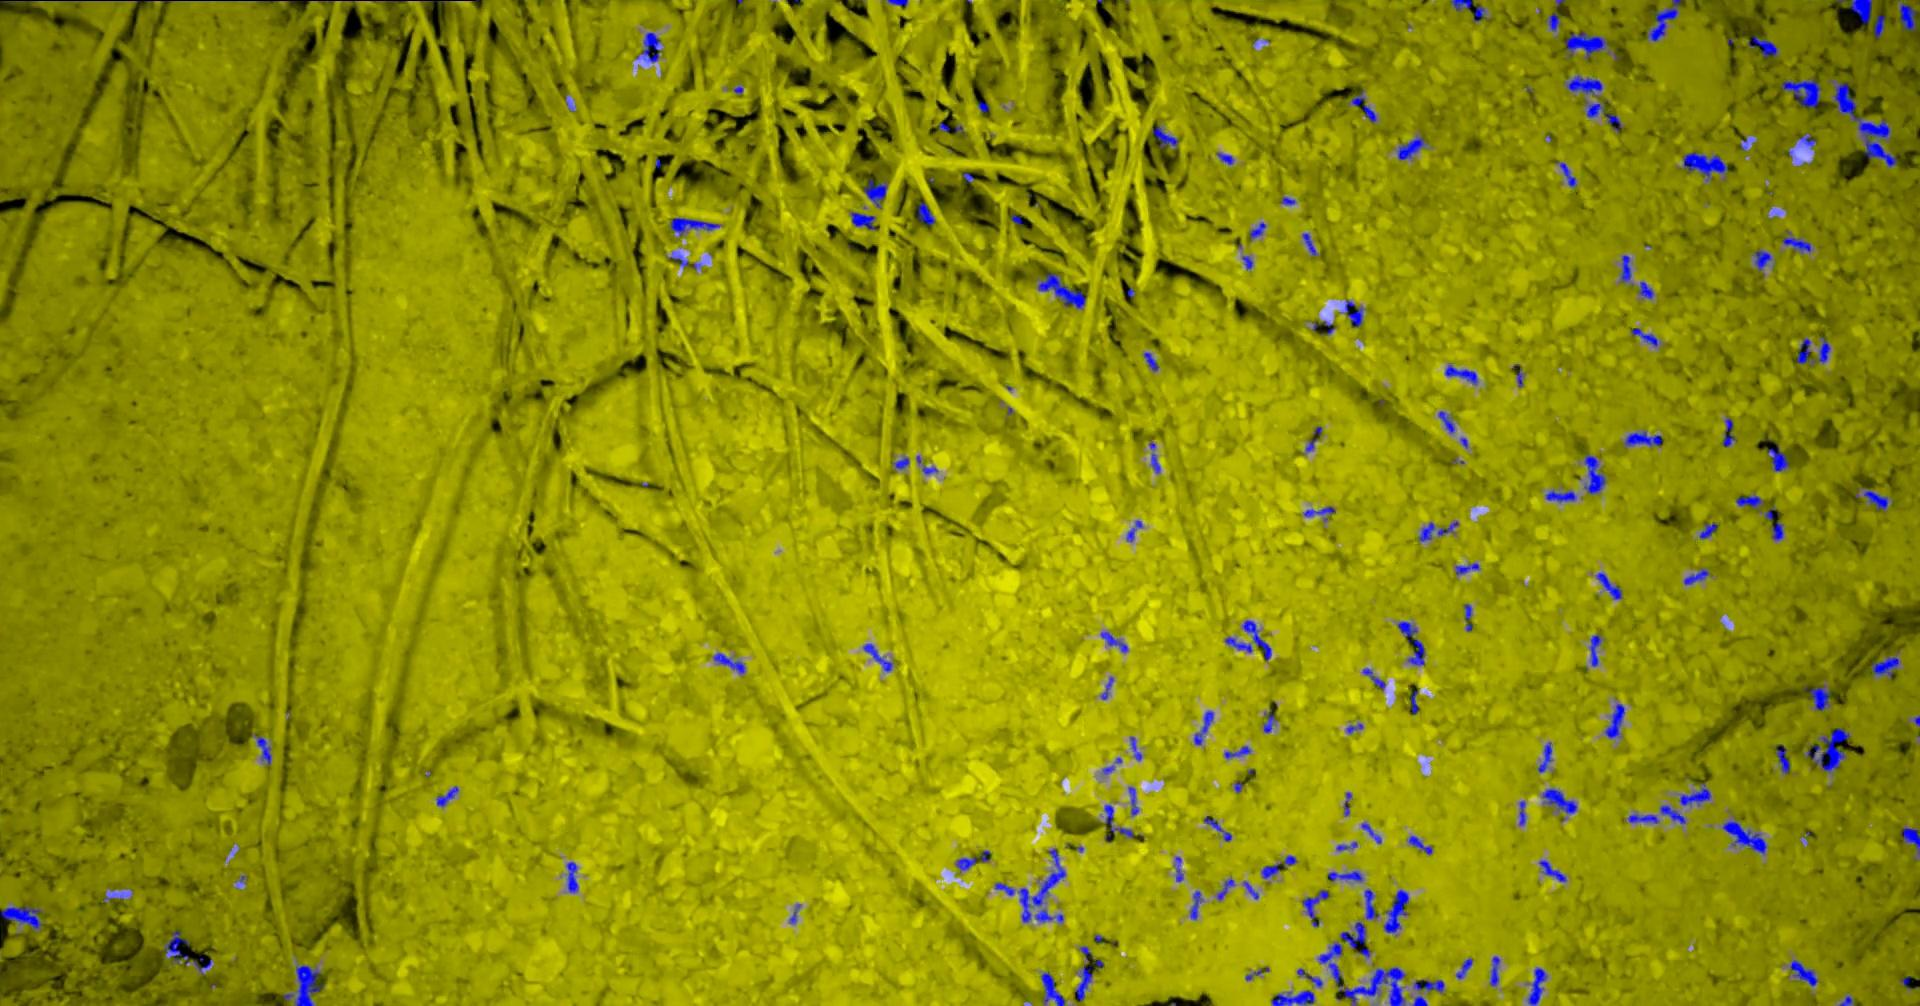ant: (994, 848, 1065, 922), (163, 930, 211, 974), (1806, 727, 1850, 772), (1224, 619, 1271, 661), (1037, 272, 1084, 307), (283, 964, 324, 1005), (1646, 0, 1683, 41), (1722, 821, 1766, 854), (1683, 151, 1727, 180), (1564, 30, 1608, 58), (1397, 621, 1423, 666), (1383, 889, 1408, 934), (1782, 77, 1820, 107), (1340, 921, 1370, 956), (1302, 889, 1330, 926), (1103, 804, 1133, 837), (1796, 337, 1830, 365), (0, 906, 41, 929), (669, 217, 719, 235), (1449, 0, 1490, 22), (1583, 453, 1605, 494), (1542, 788, 1576, 813), (1418, 520, 1458, 541), (1350, 89, 1377, 121), (1040, 972, 1065, 1005), (862, 643, 891, 671), (955, 850, 990, 873), (1261, 855, 1297, 878), (1566, 75, 1603, 97), (1677, 782, 1710, 805), (1604, 702, 1624, 738), (1790, 959, 1817, 986), (1596, 572, 1622, 600), (1203, 815, 1230, 841), (1192, 710, 1213, 744), (712, 652, 744, 673), (1528, 967, 1545, 1005), (1397, 136, 1426, 159), (863, 178, 886, 207), (1271, 989, 1314, 1005), (1803, 685, 1829, 710), (1152, 124, 1178, 149), (1538, 859, 1566, 882), (1747, 36, 1777, 57), (1444, 365, 1477, 384), (1768, 441, 1788, 471), (251, 733, 270, 765), (1870, 655, 1898, 677), (1076, 965, 1092, 1001), (640, 32, 659, 62), (1624, 431, 1662, 446), (1100, 631, 1128, 652), (669, 251, 701, 269), (1848, 0, 1872, 23), (1863, 488, 1887, 511), (1782, 232, 1810, 251), (1343, 300, 1363, 326), (1630, 326, 1657, 345), (1658, 804, 1685, 823), (1898, 0, 1915, 30), (1901, 826, 1919, 854), (1363, 667, 1385, 688), (1537, 741, 1552, 772), (1297, 968, 1322, 987), (1774, 744, 1790, 774), (436, 786, 458, 807), (1408, 835, 1432, 854), (850, 211, 875, 229), (1683, 568, 1708, 586), (1589, 634, 1603, 666), (1360, 823, 1382, 843), (1364, 889, 1378, 920), (1752, 249, 1771, 271), (1189, 890, 1203, 920), (917, 202, 935, 225), (1327, 870, 1363, 882), (1217, 878, 1234, 901), (1544, 489, 1576, 502), (1559, 163, 1576, 187), (1735, 495, 1763, 509), (1035, 908, 1063, 922), (1305, 426, 1321, 451), (1413, 979, 1444, 992), (1722, 417, 1735, 446), (1149, 441, 1161, 473), (1437, 410, 1454, 432), (1455, 958, 1472, 979), (566, 861, 578, 892), (1223, 746, 1250, 758), (1126, 520, 1142, 541), (1303, 506, 1335, 516), (1627, 813, 1658, 823), (1302, 232, 1316, 255), (1585, 100, 1604, 117), (1605, 113, 1622, 132), (1455, 561, 1479, 574), (1129, 735, 1142, 760), (1128, 786, 1138, 815), (1699, 522, 1717, 539), (1143, 352, 1158, 371), (1263, 709, 1276, 732), (1620, 254, 1630, 282), (1873, 14, 1884, 38), (1100, 677, 1112, 699), (1798, 133, 1816, 149), (1638, 281, 1653, 298), (1243, 882, 1258, 899), (1490, 955, 1498, 984), (1463, 603, 1472, 631), (1250, 222, 1265, 238), (1175, 856, 1183, 882), (1548, 11, 1559, 30), (1771, 521, 1783, 540), (938, 122, 963, 131), (1410, 688, 1418, 713), (1336, 841, 1357, 850), (1217, 152, 1233, 164), (891, 457, 908, 469), (1343, 793, 1351, 815), (1519, 800, 1525, 826), (1241, 255, 1252, 269), (1412, 995, 1427, 1005), (886, 0, 907, 6)
